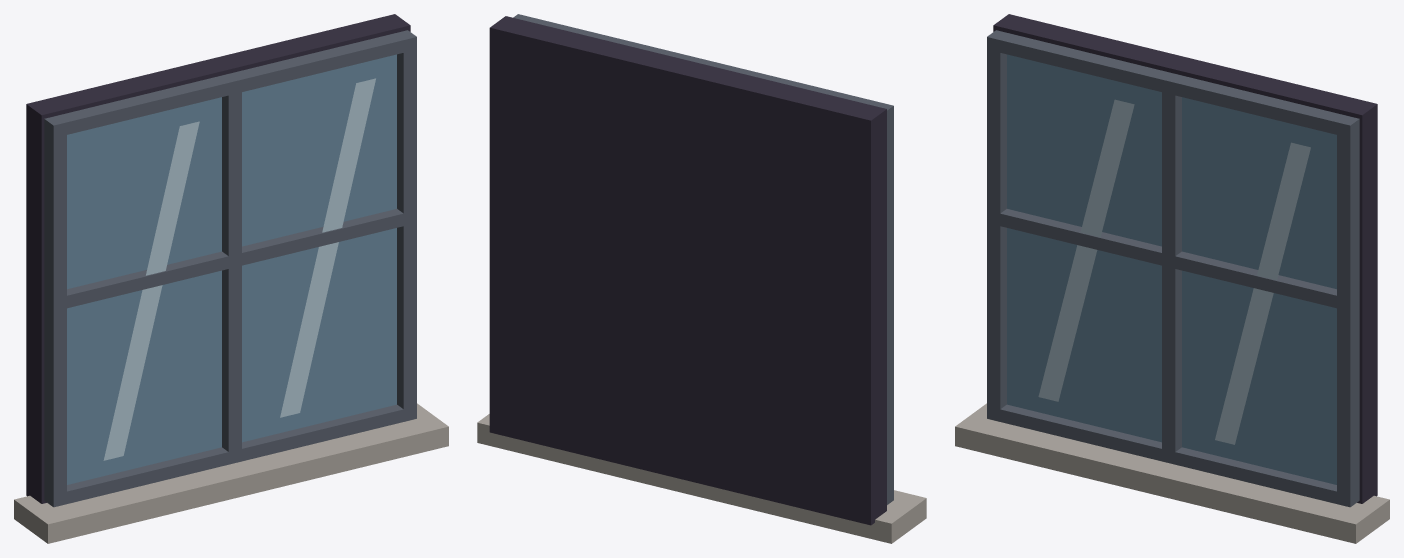
File: SM_Window_ShopUpper_140.fbx
3 renders of one model, left to right at view 1: azimuth 30°, elevation 25°; view 2: azimuth 150°, elevation 25°; view 3: azimuth 330°, elevation 25°, orthographic. The views are drawn at different scales.
Visible parts, largest first — view 1: SM_Window_ShopUpper_140; view 2: SM_Window_ShopUpper_140; view 3: SM_Window_ShopUpper_140.
Boxes of the visible parts, x1,y1,x2,y2 form: SM_Window_ShopUpper_140: [14, 14, 448, 543]; SM_Window_ShopUpper_140: [477, 14, 926, 543]; SM_Window_ShopUpper_140: [955, 14, 1389, 543].
Bounding box in the file's own units: 1.5 × 0.245 × 1.46.
